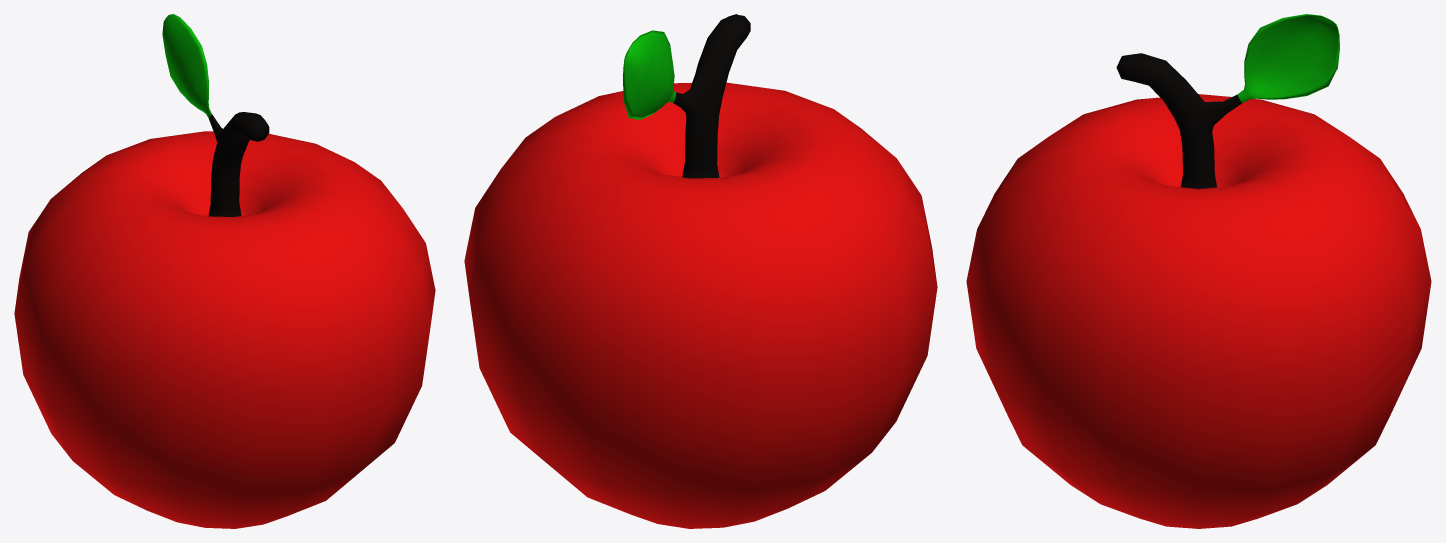
File: Apple.FBX
The picture shows the model from 3 angles, left to right: view 1: azimuth 30°, elevation 25°; view 2: azimuth 150°, elevation 25°; view 3: azimuth 270°, elevation 25°; orthographic projection. The views are drawn at different scales.
Visible parts, largest first — view 1: Sphere001; view 2: Sphere001; view 3: Sphere001.
Boxes of the visible parts, <box> form: Sphere001: <box>14,14,435,528</box>; Sphere001: <box>464,14,937,528</box>; Sphere001: <box>966,14,1431,528</box>.
Size of the model in its own units: 79.96 by 95 by 79.96.
